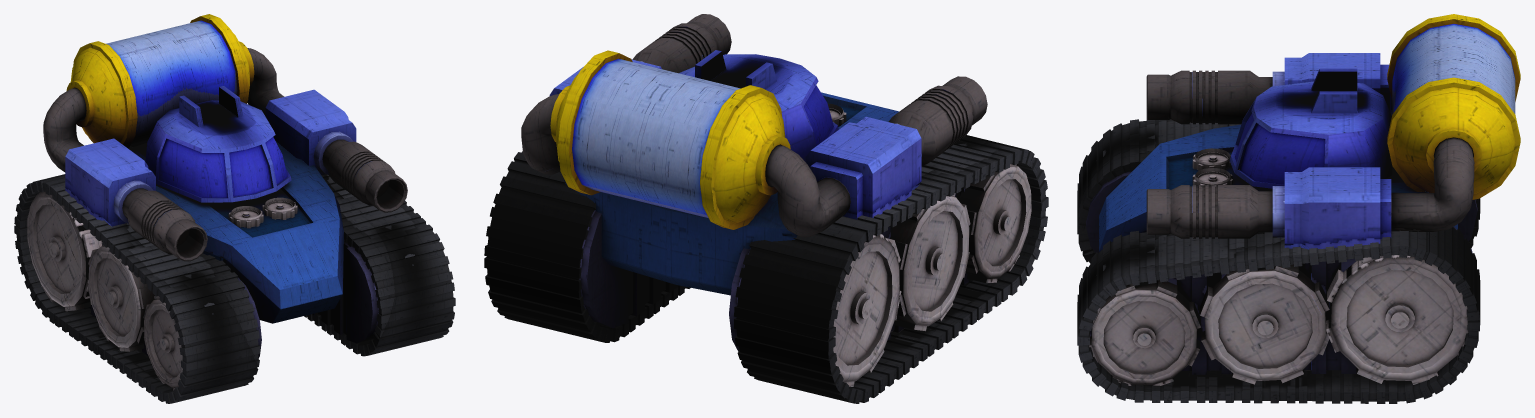
The model's file is PlayerB5.obj.
The picture shows the model from 3 angles, left to right: view 1: azimuth 30°, elevation 25°; view 2: azimuth 150°, elevation 25°; view 3: azimuth 270°, elevation 25°; orthographic projection. The views are drawn at different scales.
Parts seen in each view (by area): view 1: Object001, Box042, Object004, Object003, Object002; view 2: Object001, Box042, Object003, Object004, Object002; view 3: Object001, Box042, Object004, Object003, Object002.
Boxes of the visible parts, box(x1,y1,x2,y2) form: Object001: box(43, 14, 407, 358); Box042: box(14, 174, 455, 403); Object004: box(27, 191, 101, 311); Object003: box(87, 242, 154, 351); Object002: box(143, 296, 182, 390); Object001: box(521, 14, 987, 351); Box042: box(484, 135, 1048, 403); Object003: box(889, 193, 970, 331); Object004: box(833, 234, 901, 386); Object002: box(958, 164, 1031, 283); Object001: box(1086, 14, 1520, 374); Box042: box(1077, 119, 1480, 403); Object004: box(1326, 255, 1468, 384); Object003: box(1200, 264, 1329, 384); Object002: box(1089, 280, 1201, 385).
Bounding box in the file's own units: 121 × 102 × 147.
Materials: 2 (2 with a texture image).
